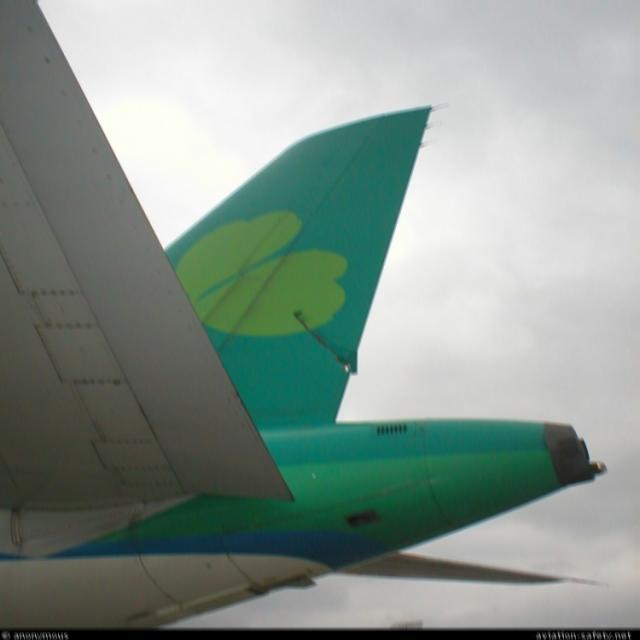crack: (287, 303, 361, 380)
